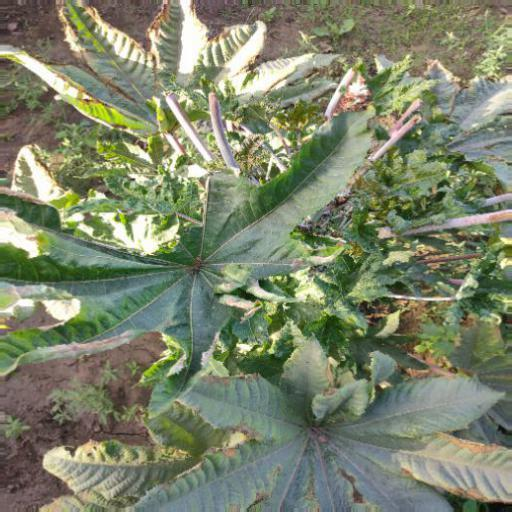weed: (14, 18, 509, 499)
